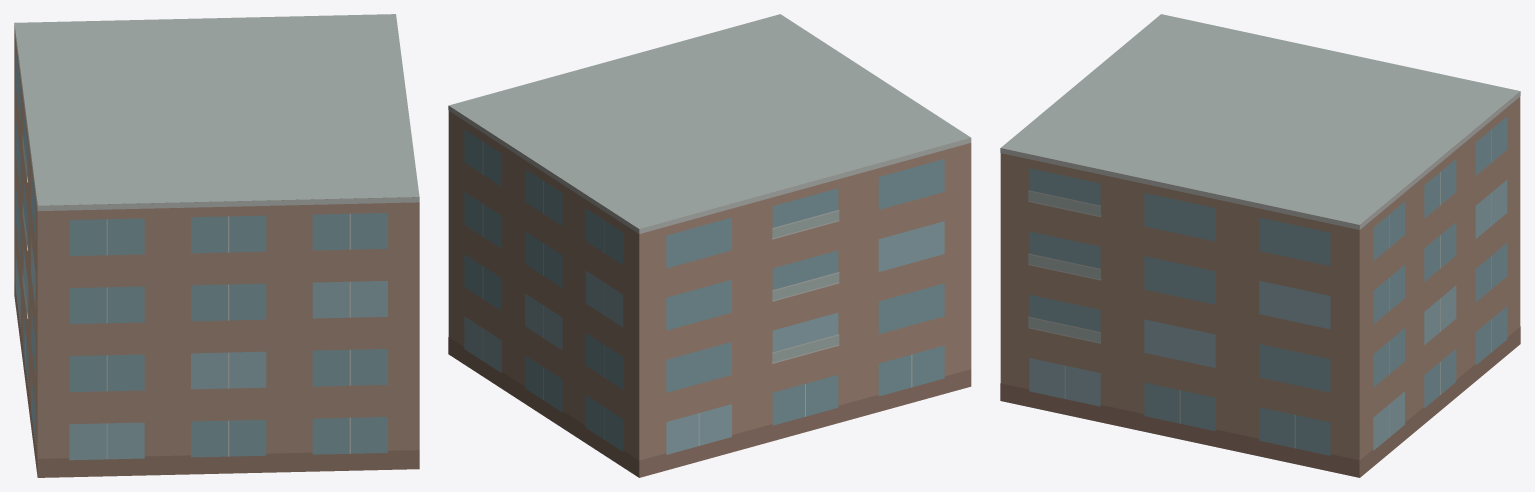
The model's file is residential-99151970-a900-4e3a-ac2a-f801132f22e6.glb.
The picture shows the model from 3 angles, left to right: view 1: azimuth 30°, elevation 25°; view 2: azimuth 150°, elevation 25°; view 3: azimuth 270°, elevation 25°; orthographic projection. The views are drawn at different scales.
Visible parts, largest first — view 1: residential-99151970-a900-4e3a-ac2a-f801132f22e6.tmp; view 2: residential-99151970-a900-4e3a-ac2a-f801132f22e6.tmp; view 3: residential-99151970-a900-4e3a-ac2a-f801132f22e6.tmp.
Boxes of the visible parts, left/top/right/bottom form: residential-99151970-a900-4e3a-ac2a-f801132f22e6.tmp: left=14, top=14, right=419, bottom=477; residential-99151970-a900-4e3a-ac2a-f801132f22e6.tmp: left=448, top=14, right=971, bottom=477; residential-99151970-a900-4e3a-ac2a-f801132f22e6.tmp: left=1000, top=14, right=1520, bottom=477.
Bounding box in the file's own units: 21.83 × 12.2 × 22.74.
